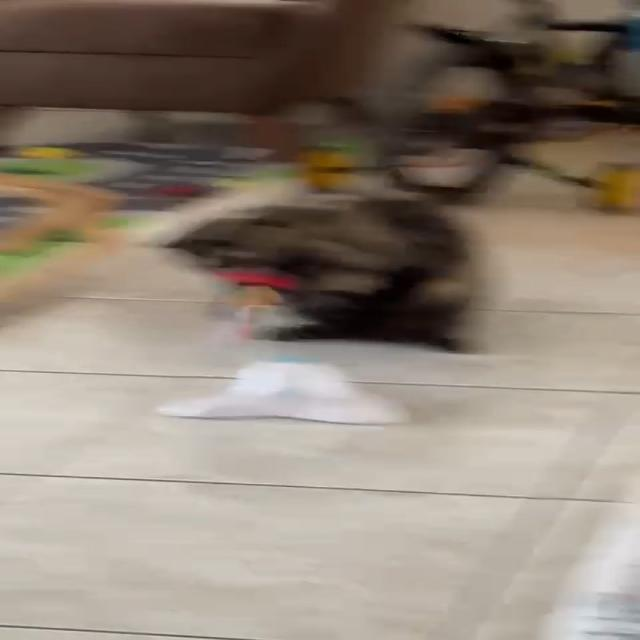authorized: (161, 194, 483, 352)
